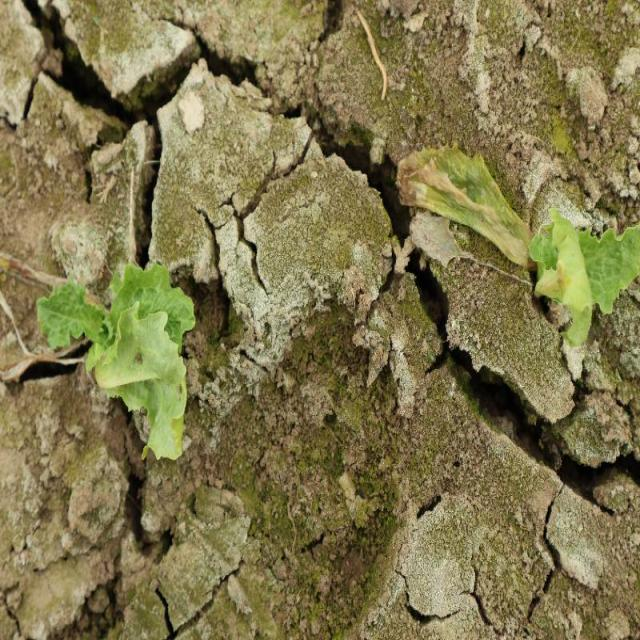crop: (34, 260, 197, 464), (528, 214, 640, 344)
